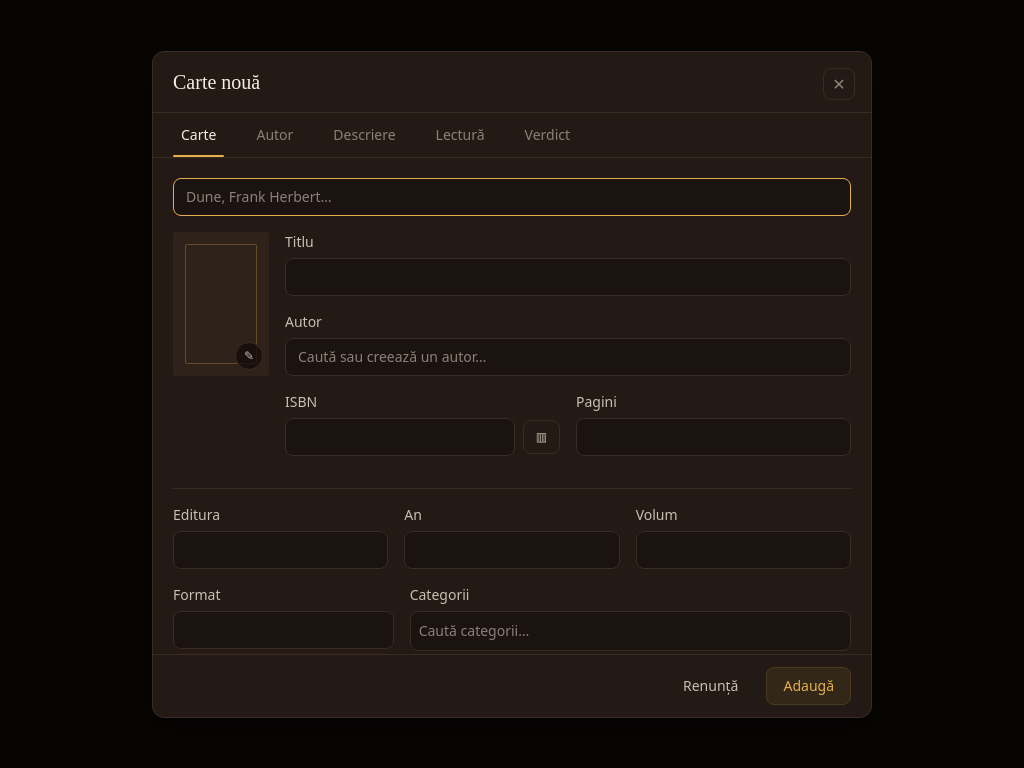
Test: BookFormDialog — searching Open Library (S4.1) › fills the form from a chosen result
Type "dune" into the search field named "Caută în Open Library" at [512, 196], box [173,178,851,216]
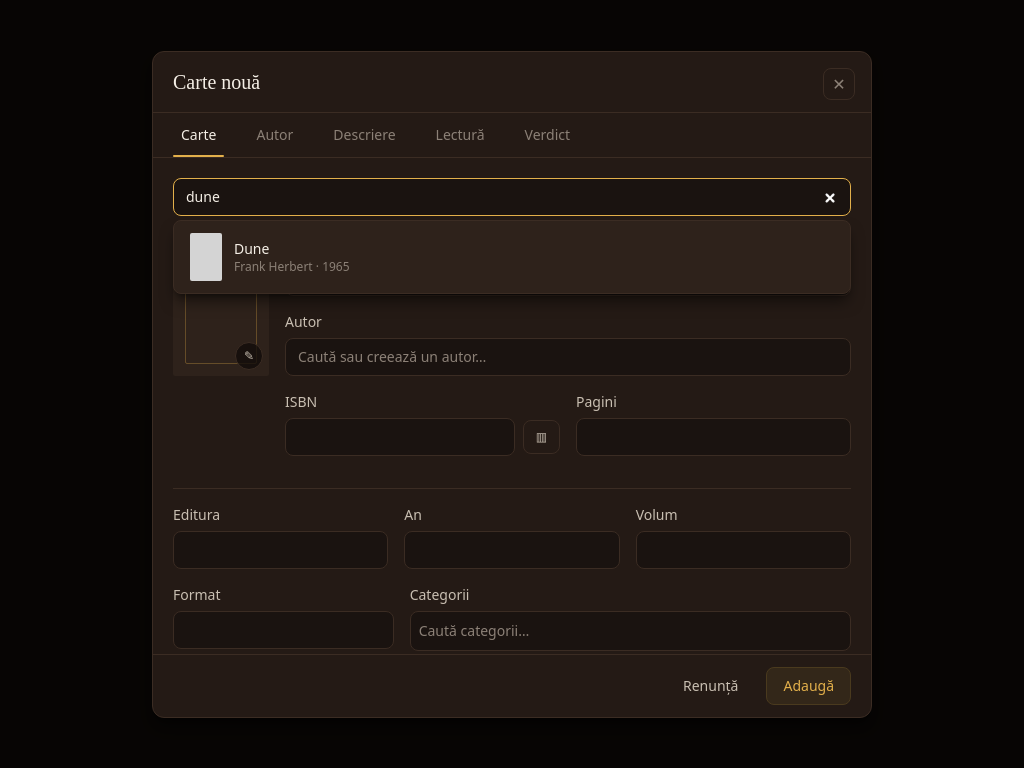
Click the button "Dune Frank Herbert · 1965" at [206, 256], box [178,224,846,288]
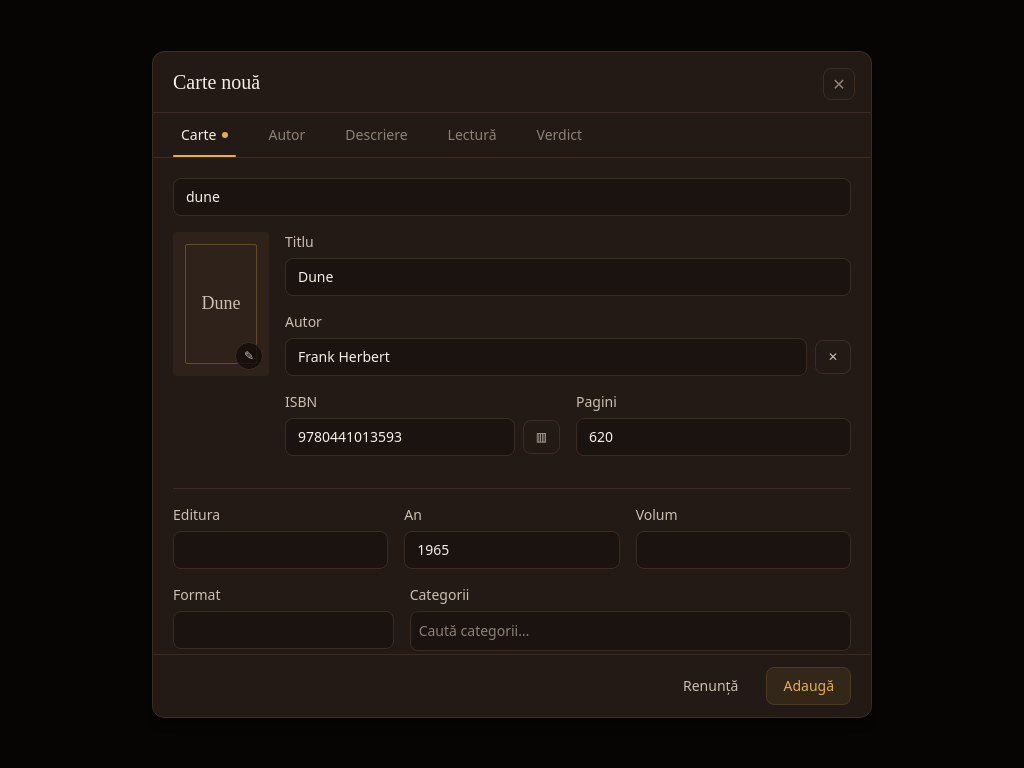
Result: the field labelled "Titlu" holds "Dune" at [285,258,851,296]
Result: the field labelled "ISBN ▥" holds "9780441013593" at [285,418,515,456]
Result: the number field labelled "Pagini" holds "620" at [576,418,851,456]
Click the tab "Autor" at [287, 134], box [260,112,313,156]
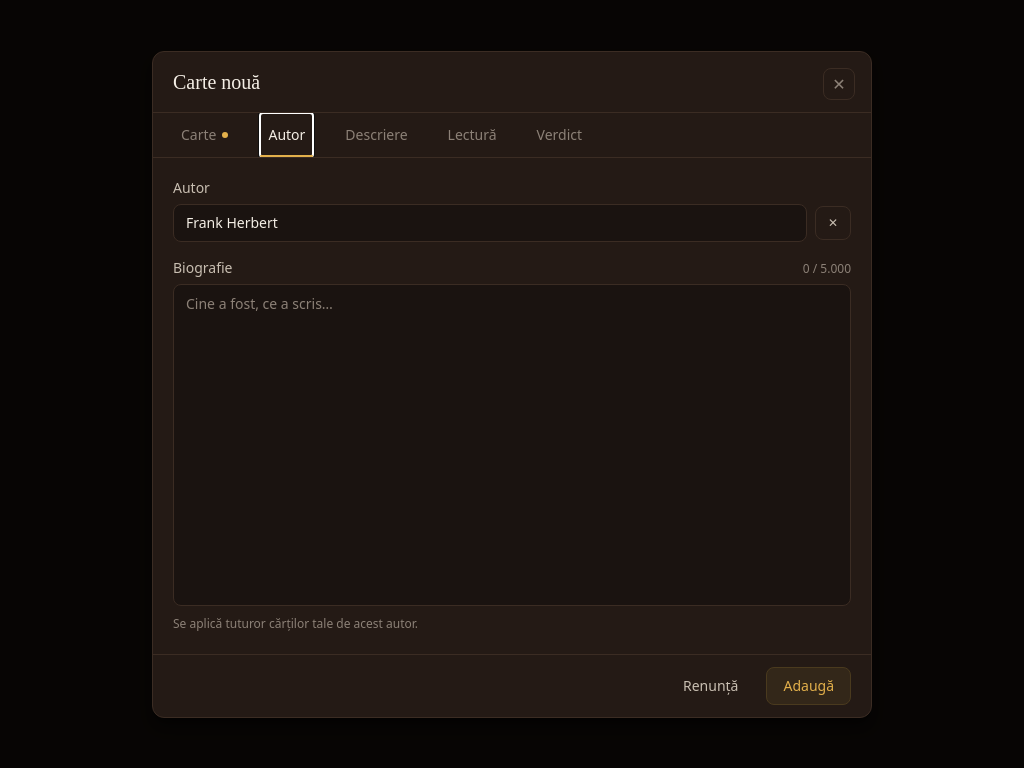
Result: the field labelled "Autor" holds "Frank Herbert" at [173,204,807,242]
